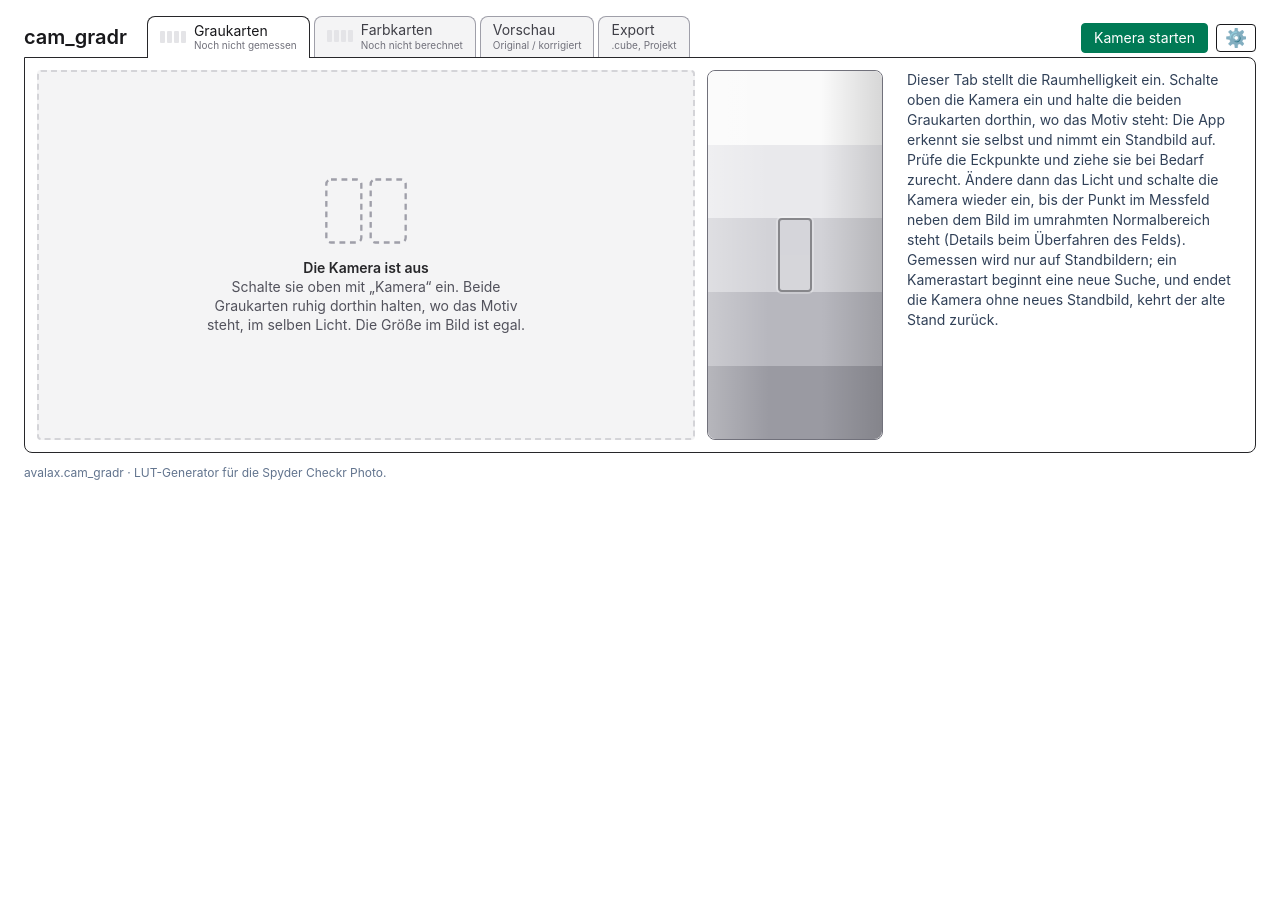
Test case: App › offers the camera settings in the gear menu
Expected: the text "Auto-Belichtung" is not shown
Click the button with test id "settings-button".
click(1236, 38)  # box [1216,24,1256,52]
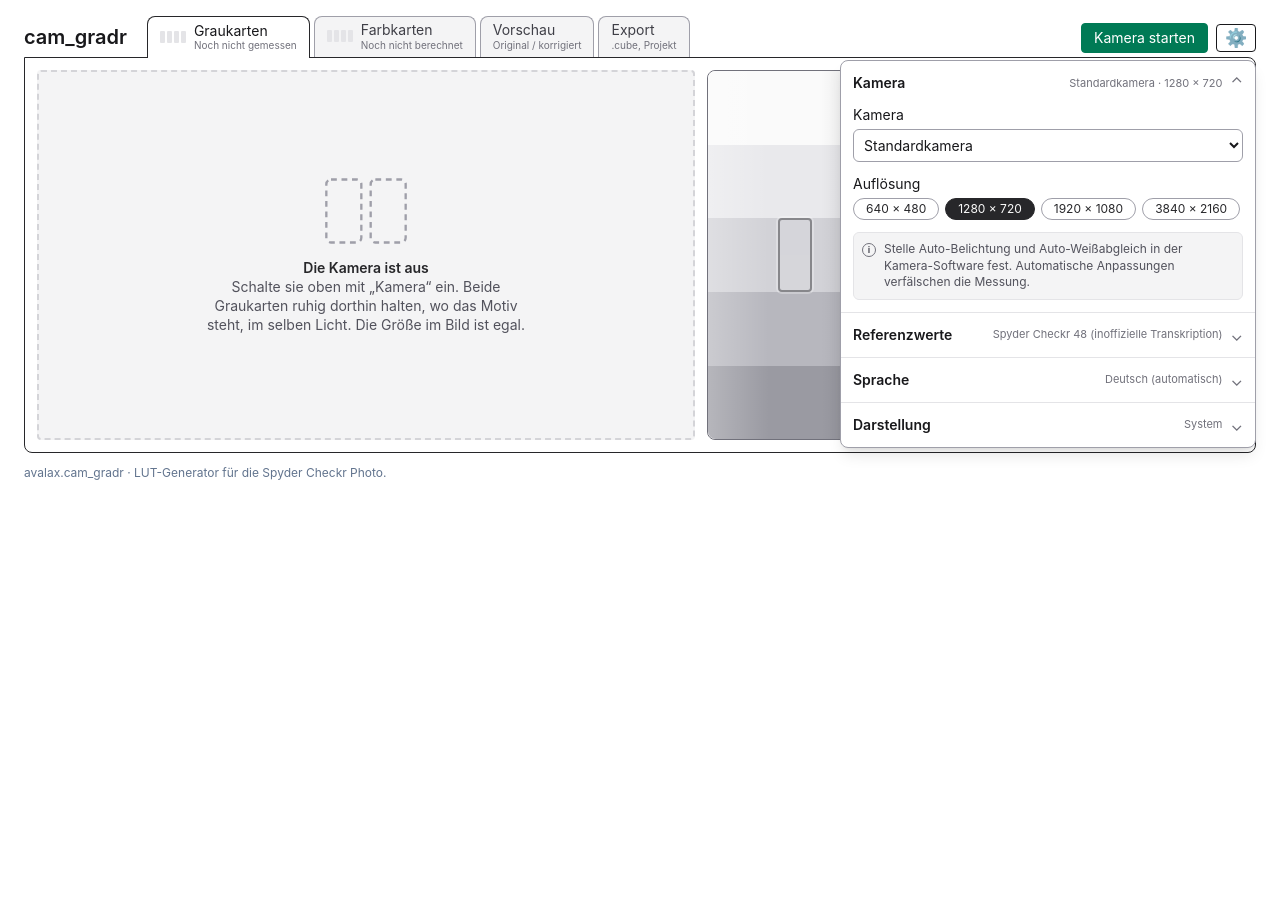
Now the text "Auto-Belichtung" is shown, box [884,241,1183,289]
Now the text "Auflösung" is shown, box [853,175,920,192]
